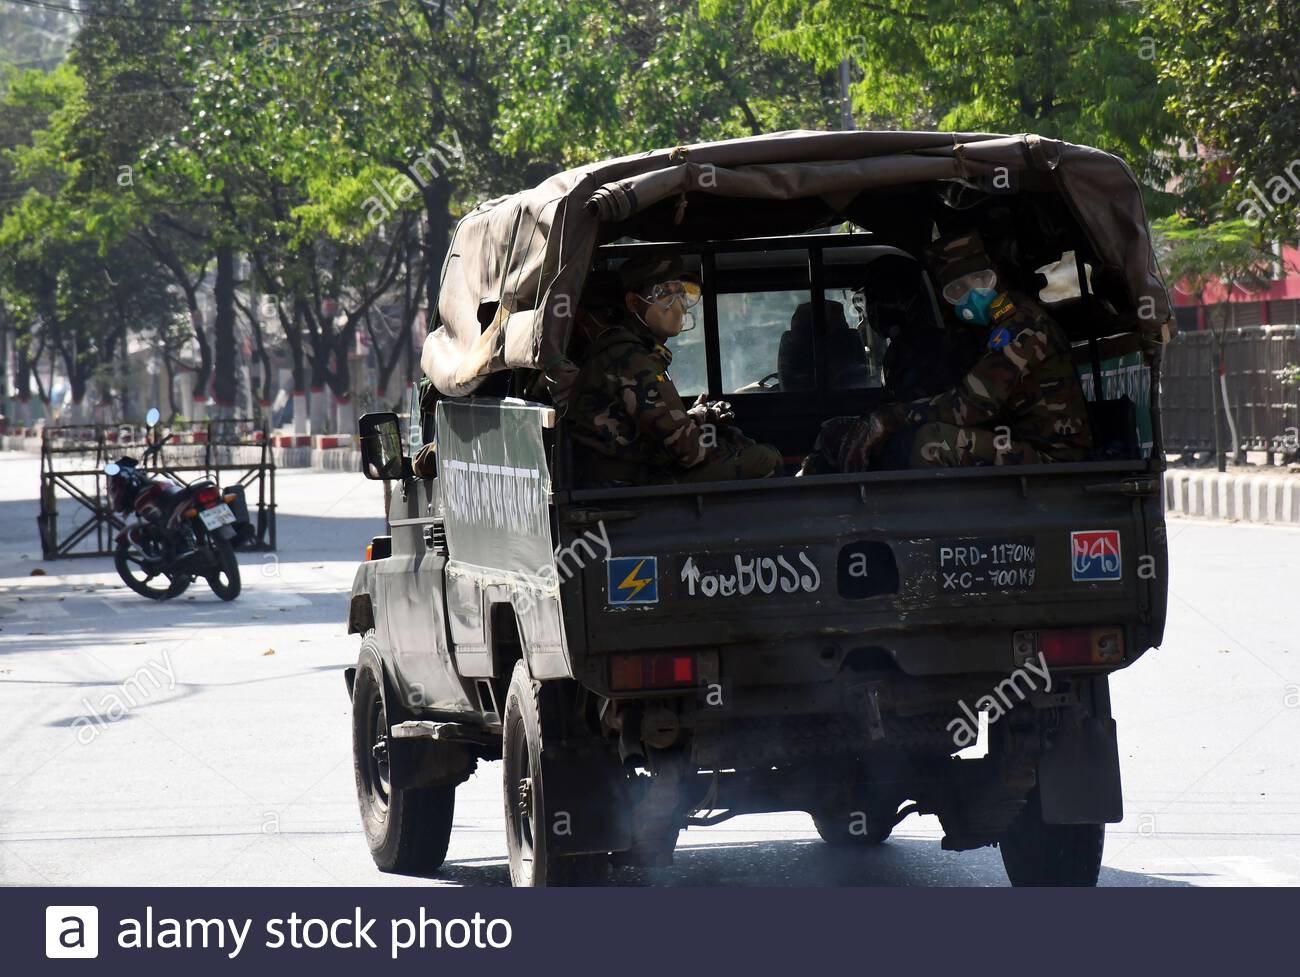army vehicle: (345, 119, 1173, 890)
motorbike: (99, 408, 243, 602)
